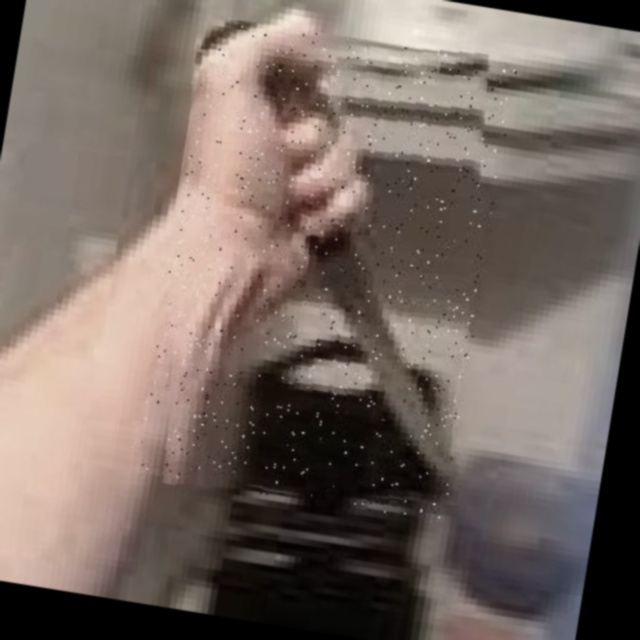Sharp-Object: (135, 16, 518, 524)
